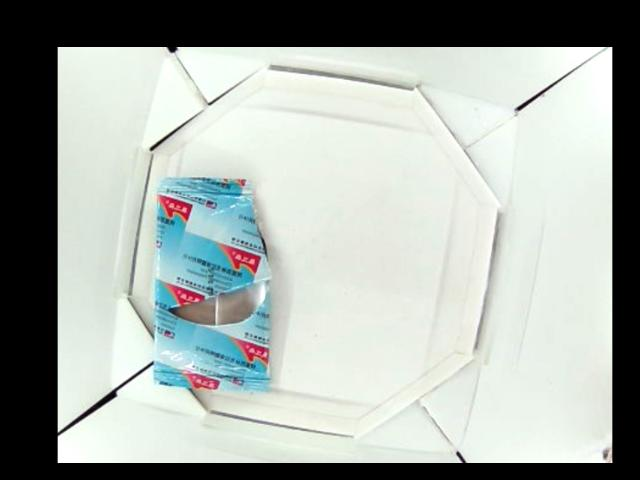Medicine: (155, 176, 270, 394)
